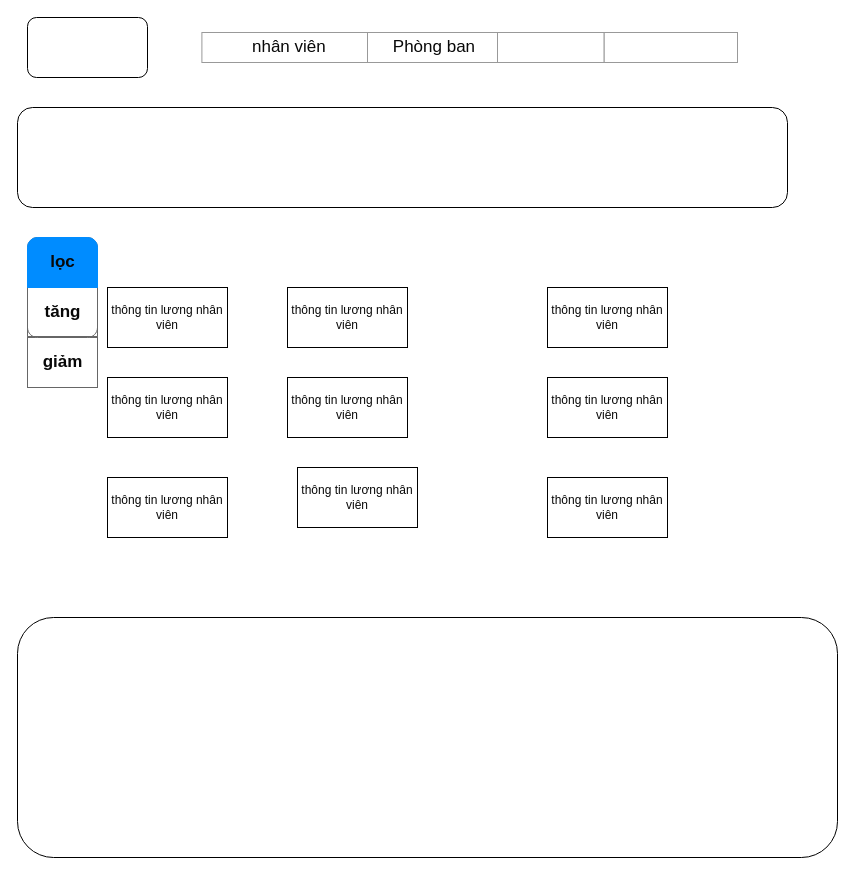
This 855x875 diagram has some shape labels left out. The box of each missing label's shape, as (x1, y1, x2, y2) in pixels:
Bảng lương: (496, 32, 604, 62)
Footer: (16, 616, 838, 858)
logo: (26, 16, 148, 78)
Search: (603, 32, 738, 62)
ứng dụng quản lý nhân sự v 1.0: (16, 106, 788, 208)
